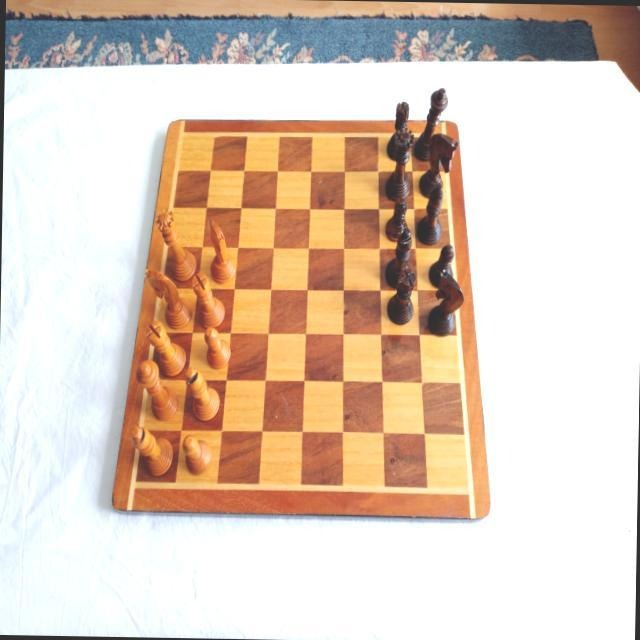black-bishop: (416, 181, 444, 245), (383, 227, 412, 287)
black-king: (412, 85, 448, 161)
black-knight: (426, 268, 465, 336), (418, 133, 458, 199)
black-pawn: (427, 243, 454, 289), (383, 195, 408, 241)
black-queen: (384, 127, 414, 200)
black-rook: (385, 267, 416, 325), (385, 99, 410, 160)
white-bishop: (128, 423, 174, 476), (183, 366, 220, 422)
white-king: (134, 358, 179, 421)
white-knight: (144, 266, 192, 329), (205, 216, 236, 285)
white-pawn: (202, 325, 231, 369), (181, 433, 211, 475)
white-queen: (154, 207, 196, 281)
white-rook: (143, 320, 186, 376), (191, 270, 225, 329)
